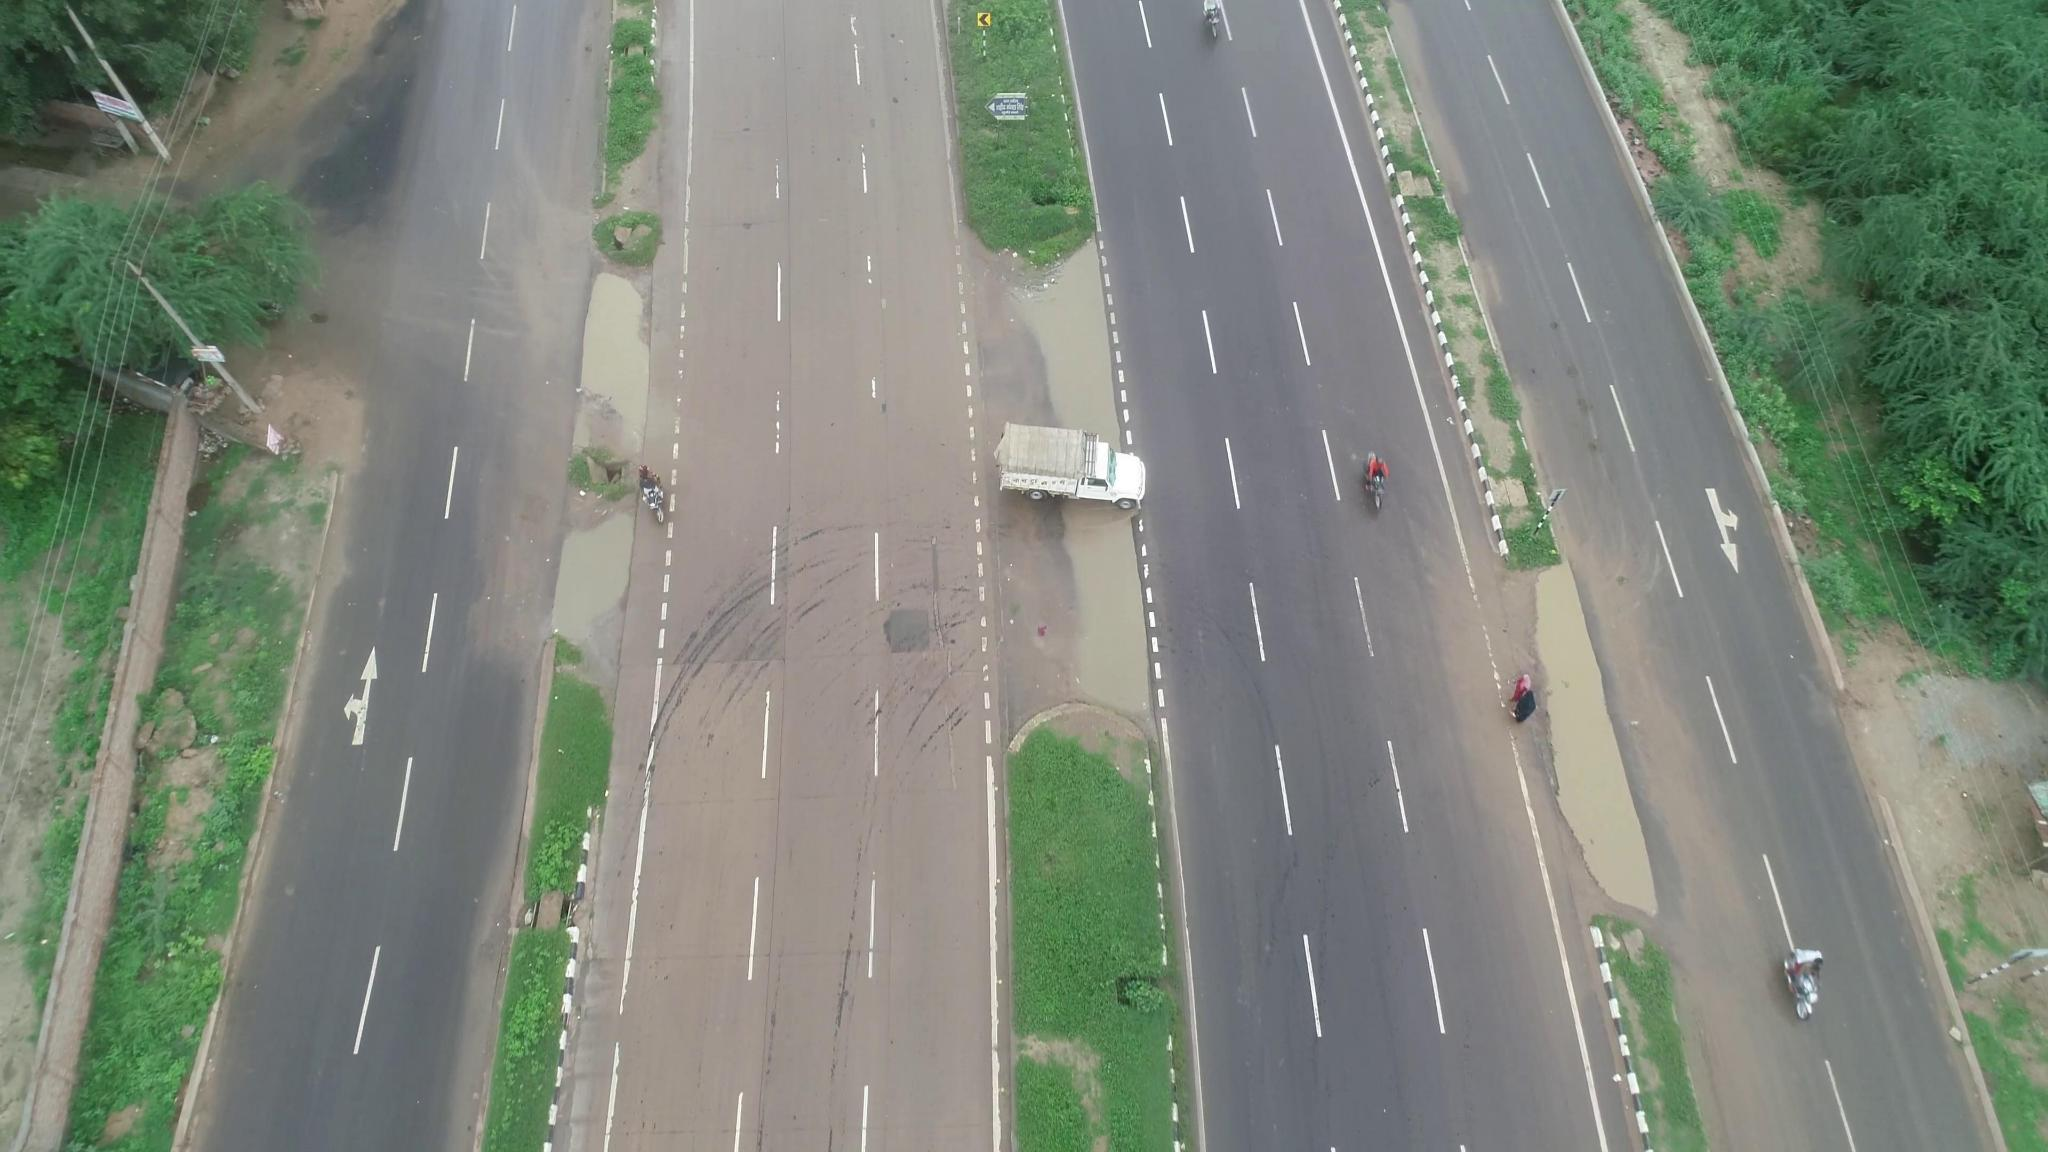Waterlogging: (1513, 570, 1678, 923), (1035, 506, 1182, 717), (1009, 293, 1163, 442), (529, 497, 668, 646), (563, 232, 665, 429)
